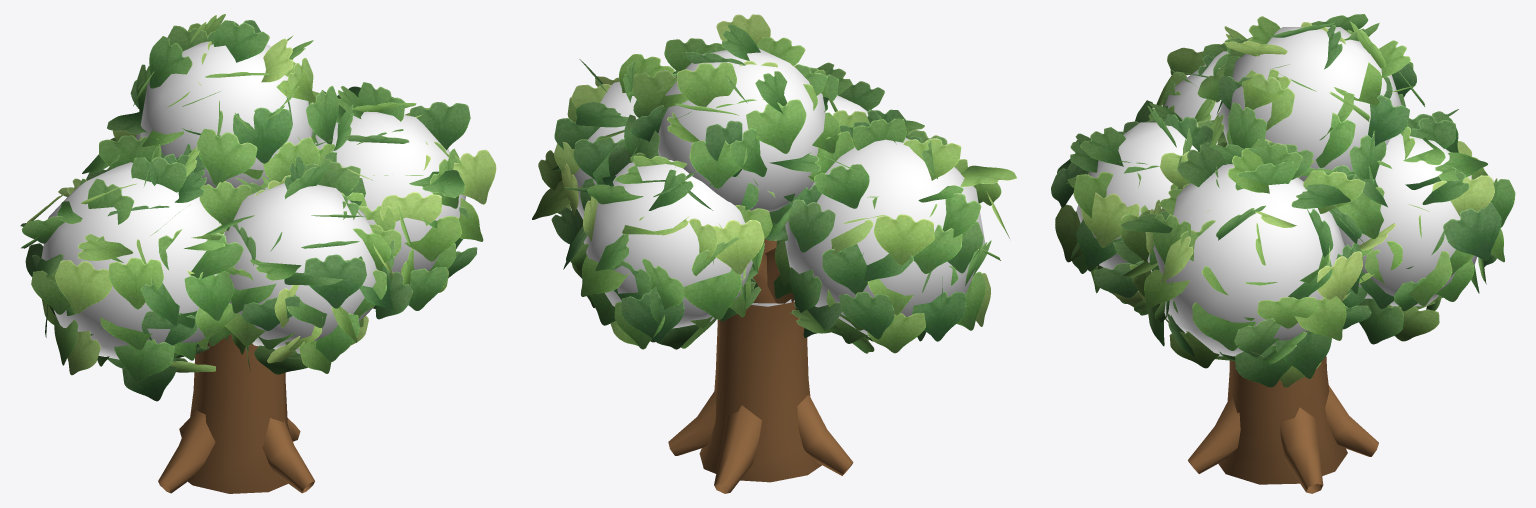
File: tree-wide-summer.glb
3 renders of one model, left to right at view 1: azimuth 30°, elevation 25°; view 2: azimuth 150°, elevation 25°; view 3: azimuth 270°, elevation 25°, orthographic. The views are drawn at different scales.
Parts seen in each view (by area): view 1: Crown, Hull, Trunk; view 2: Crown, Hull, Trunk; view 3: Crown, Hull, Trunk.
Boxes of the visible parts, left/top/right/bottom form: Crown: left=20, top=14, right=496, bottom=401; Hull: left=41, top=41, right=465, bottom=359; Trunk: left=158, top=334, right=314, bottom=493; Crown: left=532, top=14, right=1016, bottom=353; Hull: left=570, top=48, right=985, bottom=337; Trunk: left=668, top=239, right=853, bottom=493; Crown: left=1051, top=14, right=1515, bottom=387; Hull: left=1076, top=27, right=1476, bottom=356; Trunk: left=1188, top=356, right=1378, bottom=493.
Size of the model in its own units: 3.51 by 3.28 by 3.17.
Materials: 4 (1 with a texture image).
